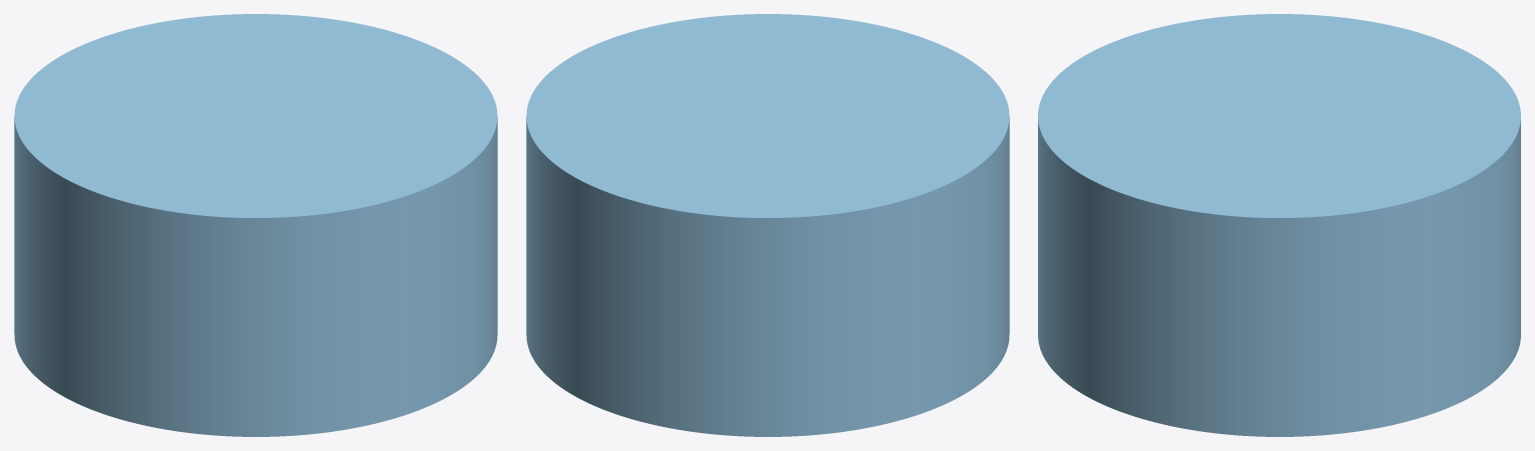
3 renders of one model, left to right at view 1: azimuth 30°, elevation 25°; view 2: azimuth 150°, elevation 25°; view 3: azimuth 270°, elevation 25°, orthographic.
Visible parts, largest first — view 1: 5a81ccd9a353200fe69d63bc; view 2: 5a81ccd9a353200fe69d63bc; view 3: 5a81ccd9a353200fe69d63bc.
Boxes of the visible parts, x1=… form: 5a81ccd9a353200fe69d63bc: x1=14, y1=14, x2=497, y2=436; 5a81ccd9a353200fe69d63bc: x1=526, y1=14, x2=1009, y2=436; 5a81ccd9a353200fe69d63bc: x1=1038, y1=14, x2=1520, y2=436.
Bounding box in the file's own units: 1 × 1 × 0.5.
